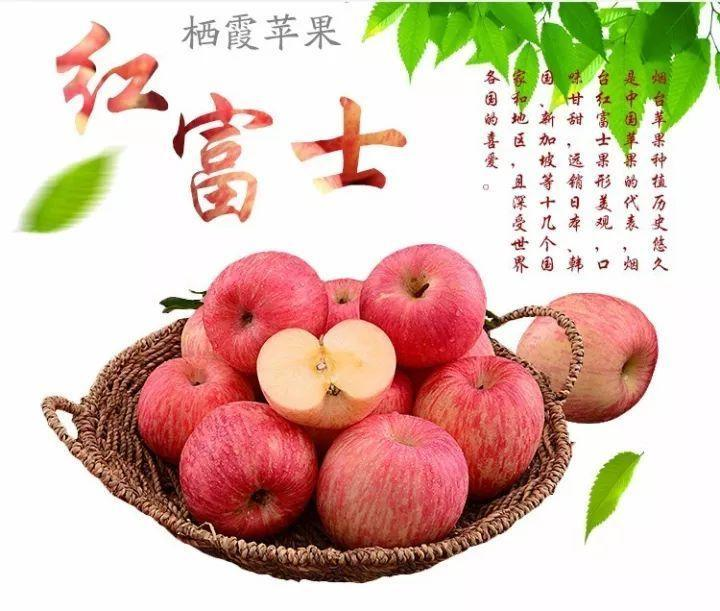apple: (320, 411, 468, 546), (512, 292, 658, 426), (412, 355, 546, 500), (177, 402, 317, 536), (193, 248, 329, 378), (359, 240, 488, 368), (135, 352, 257, 462)
